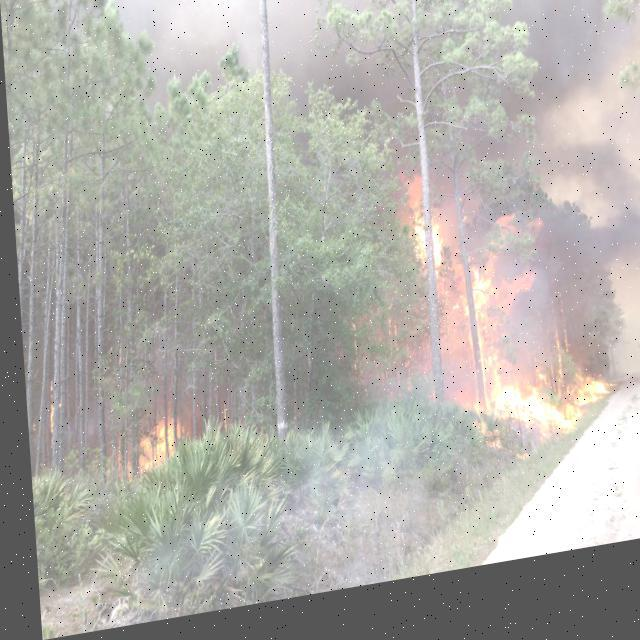Fire: (370, 145, 612, 483), (115, 416, 177, 478)
